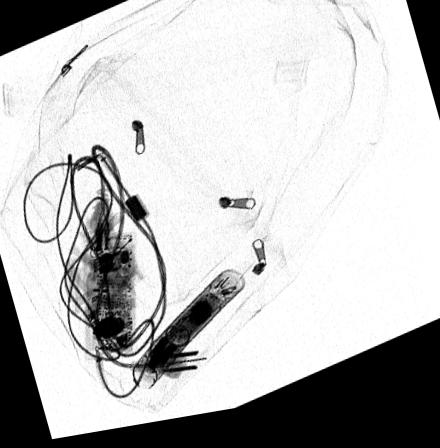Baton: (129, 275, 247, 395)
